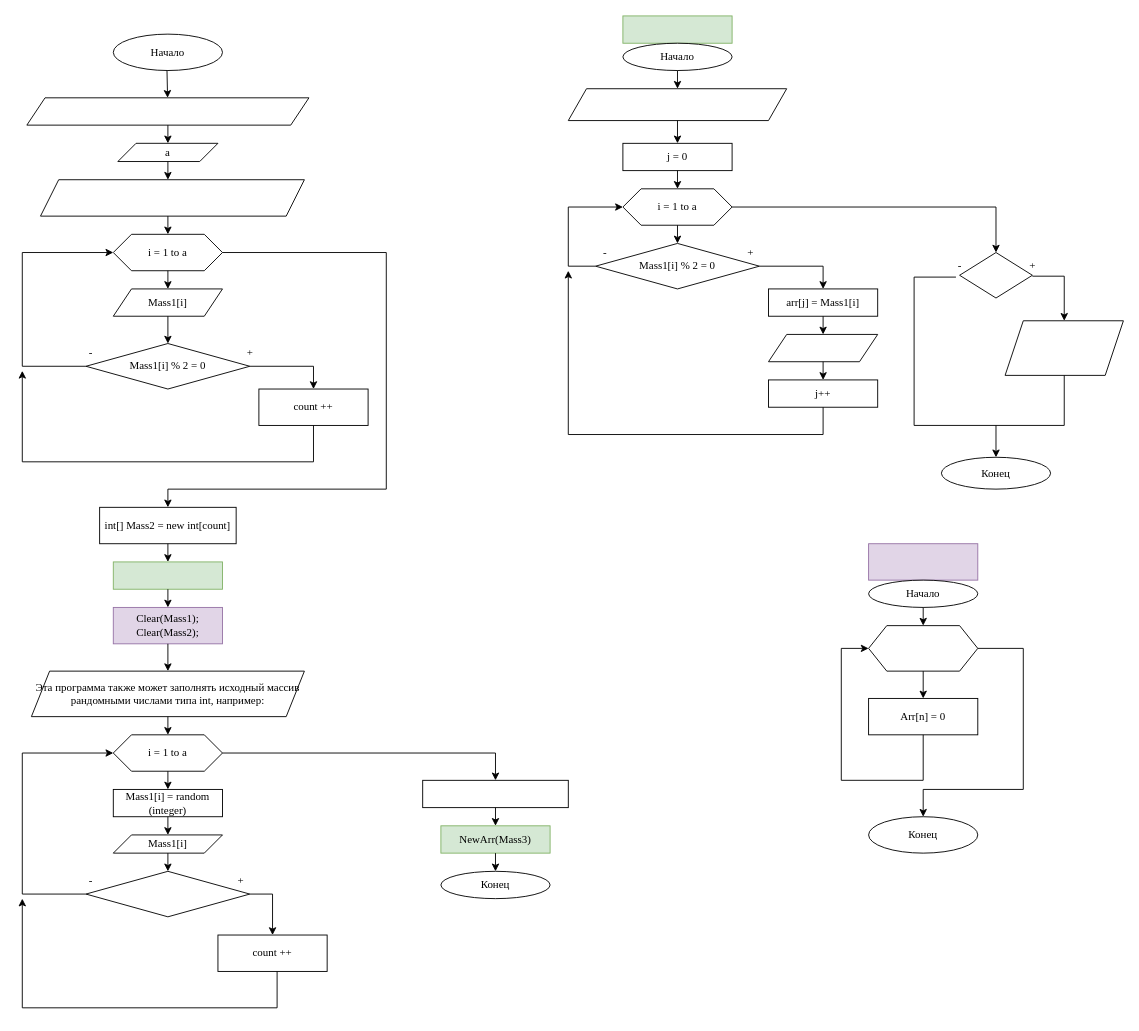
The diagram is 1139 pixels wide and 1031 high, and some of its shapes have lost their labels. Each missing label, with the box of its shape:
arr.length = 0: (959, 252, 1032, 298)
arr[j]: (768, 334, 878, 362)
Clear (Array): (868, 543, 978, 580)
int[] Mass3 = new int[count]: (422, 779, 568, 808)
Mass1[i] = 0: (85, 870, 250, 917)
n = 1 to arr.length: (868, 625, 978, 671)
NewArr: (622, 15, 732, 43)
NewArr(Mass2): (112, 561, 222, 589)
В исходном массиве нет чётных элементов: (1004, 320, 1123, 375)
Введите желаемое количество элементов в массиве и нажмите ENTER:: (26, 97, 309, 125)
Заполните введённое количество элементов массива через ENTER:: (40, 179, 304, 216)
Полученный массив из чётных элементов:: (567, 88, 787, 121)
